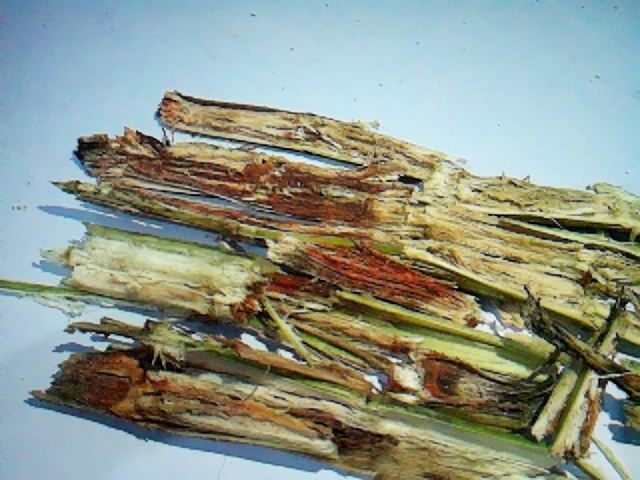Red-Rot: (56, 65, 633, 480)
